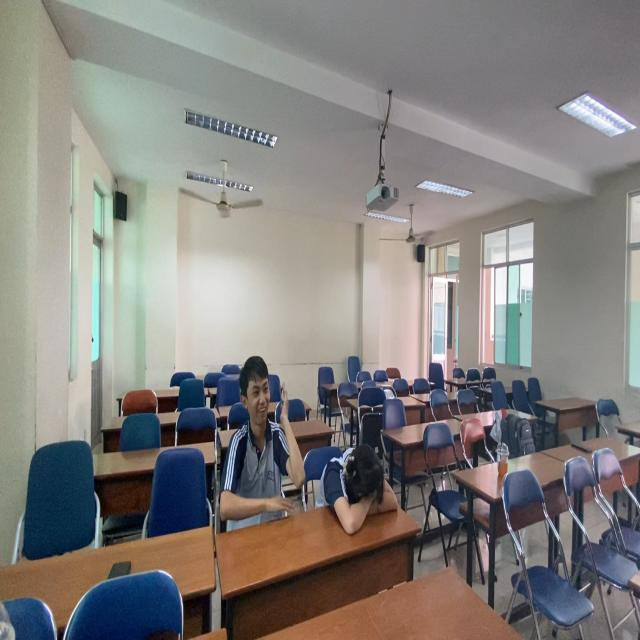raise_hand: (217, 346, 304, 524)
sleep: (315, 435, 411, 531)
